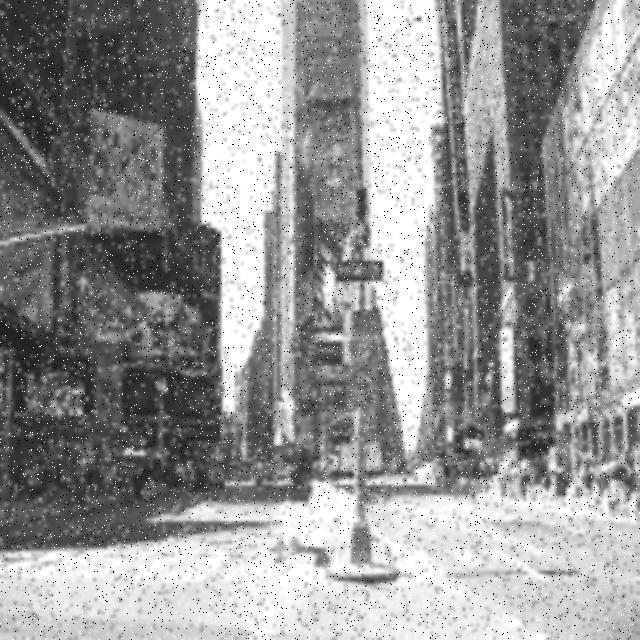crosswalk: (14, 536, 289, 591), (421, 528, 640, 586)
